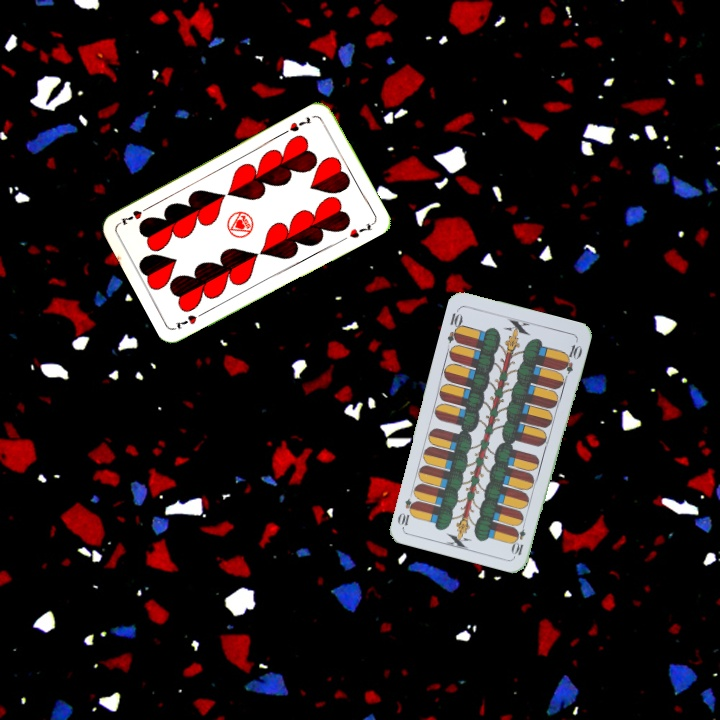E10: (443, 305, 465, 346), (509, 517, 528, 558)
H7: (171, 307, 209, 332), (286, 112, 314, 134)
